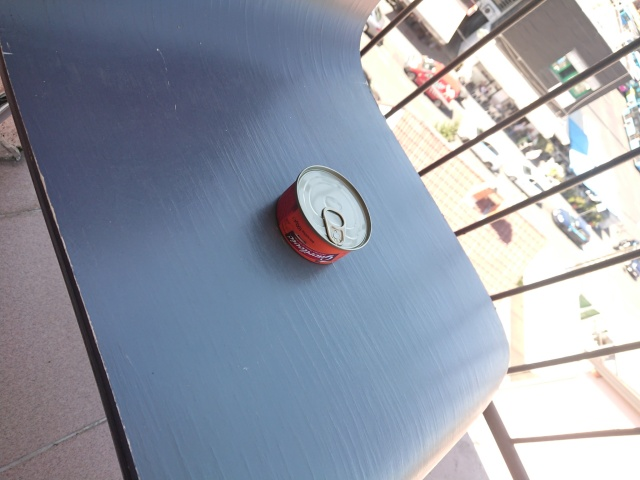Gavrilovic Pork Liver Pate 100g: (272, 162, 374, 267)
